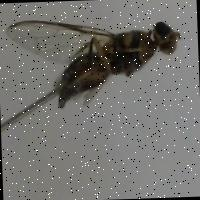Oriental-fruit-fly: (3, 2, 187, 118)
